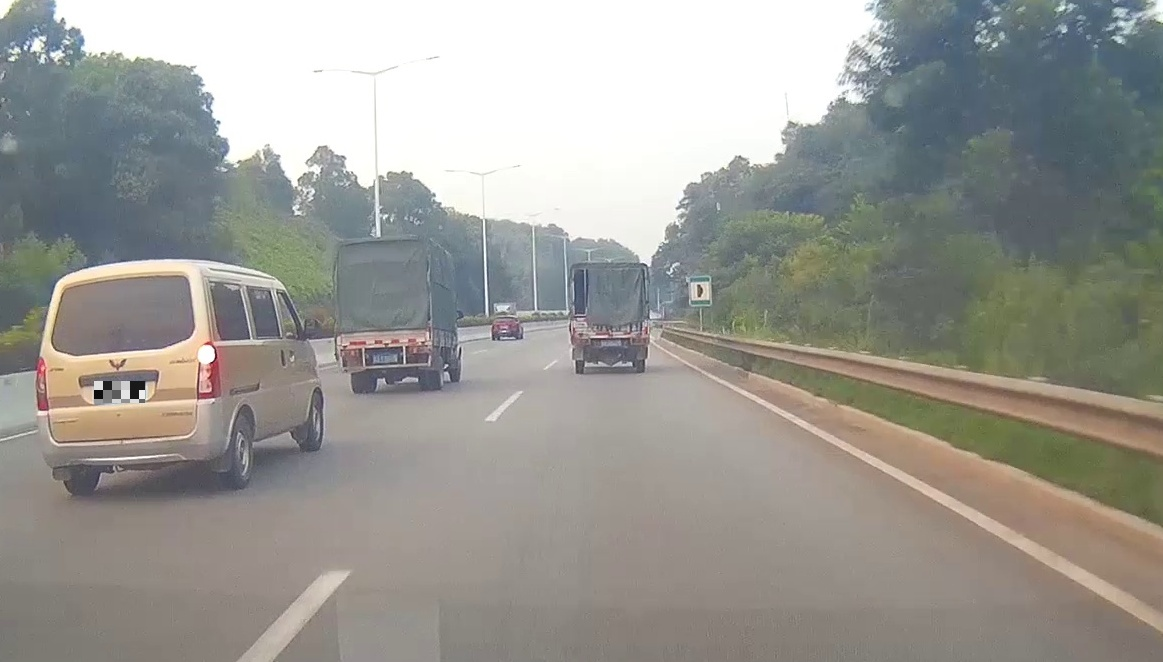L_light: (36, 356, 48, 410), (344, 350, 357, 356), (578, 339, 588, 343)
R_light: (196, 341, 221, 399), (410, 347, 426, 353), (635, 339, 646, 343)
T_light: (106, 280, 130, 285), (377, 328, 391, 332), (604, 320, 616, 323)
day-no: (336, 235, 433, 392), (569, 263, 649, 373)
day-right: (35, 260, 223, 496)
plate_1: (94, 381, 145, 403)
